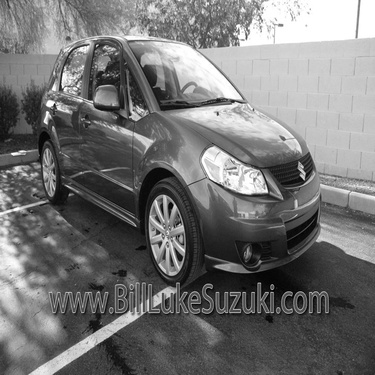car: (25, 22, 332, 282)
